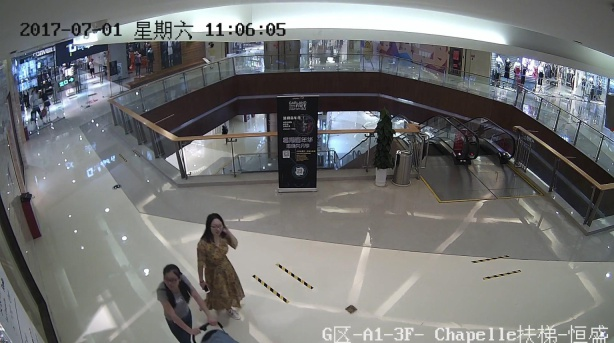person: (200, 210, 251, 320), (154, 266, 198, 339), (373, 104, 400, 193), (146, 46, 159, 78), (133, 50, 145, 77), (87, 58, 97, 81)
